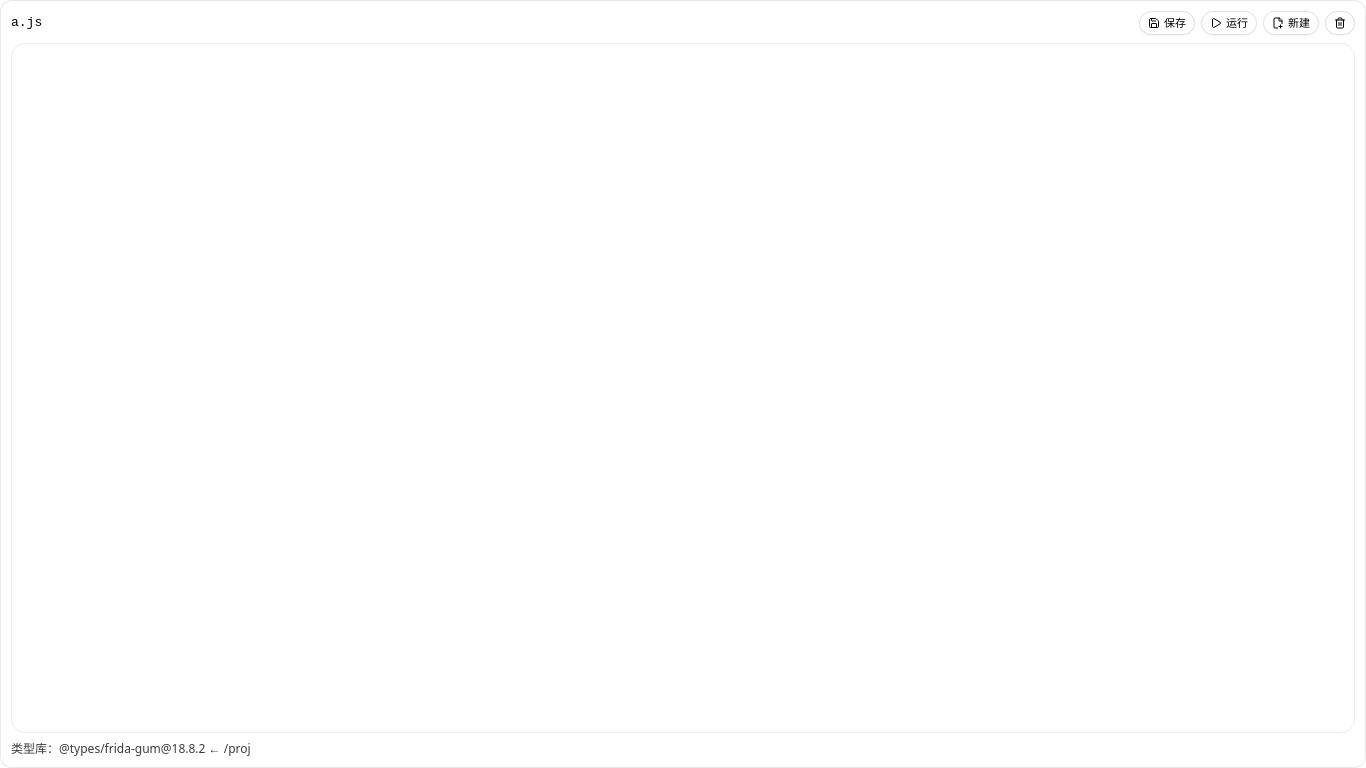
Test: ScriptIde 的模型管理 › 删除：模型被 dispose、当前文件清空
The image size is (1366, 768).
Expected: the text with test id "ide-current-file" reads "a.js", [11,15,42,30]
初次删除会进入二次确认
Click the button with test id "ide-delete". click: (1340, 23)
box: [1325,11,1355,35]
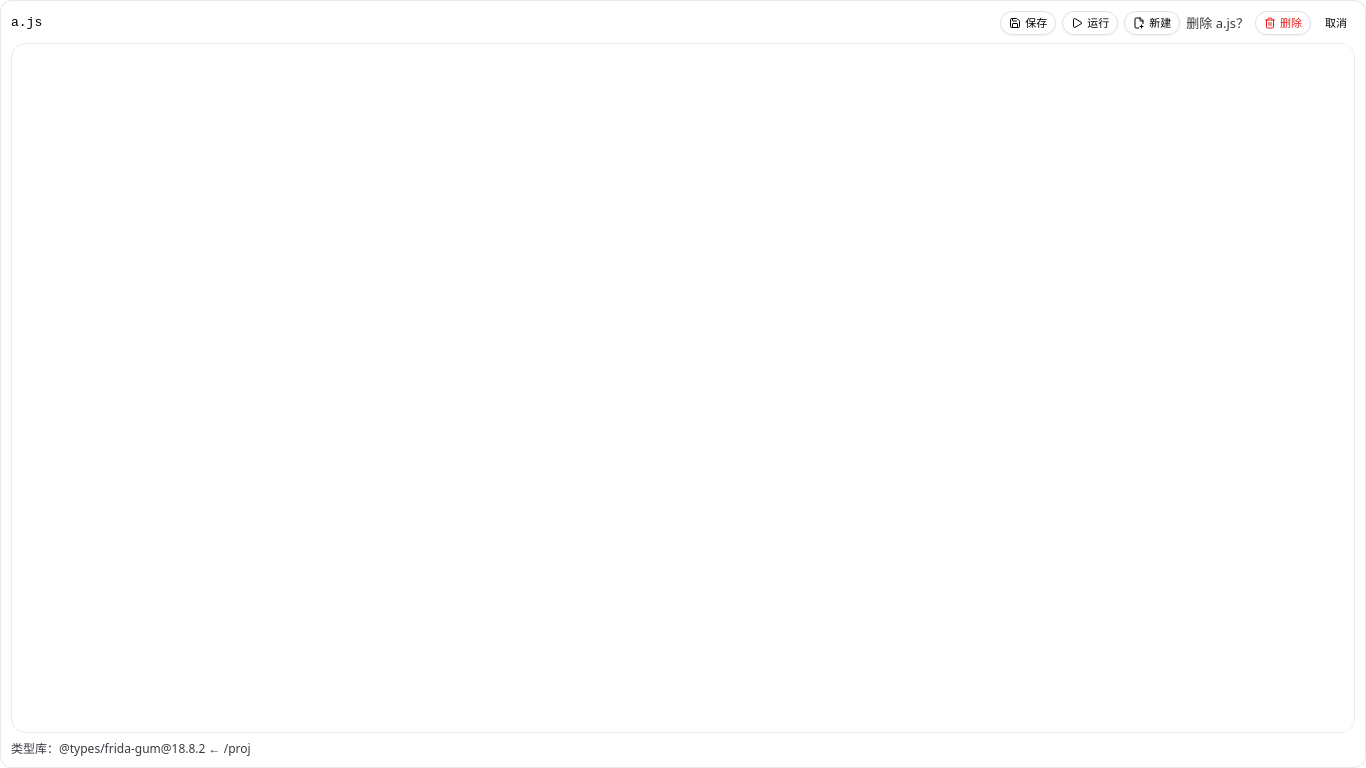
Expected: the button with test id "ide-delete-confirm" is shown
Click the button with test id "ide-delete-confirm". click: (1283, 23)
box: [1255,11,1311,35]
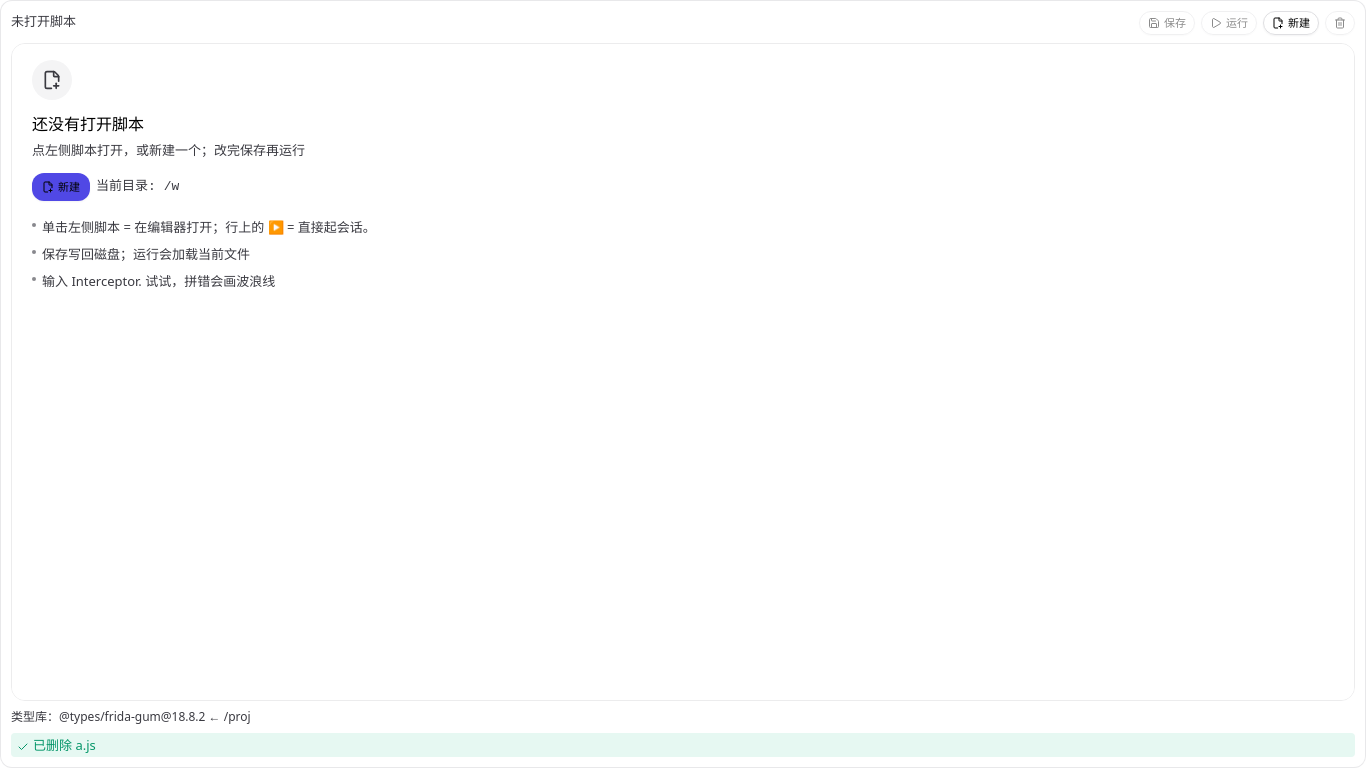
Expected: the element with test id "ide-current-file" reads "未打开脚本", [11,15,76,30]
